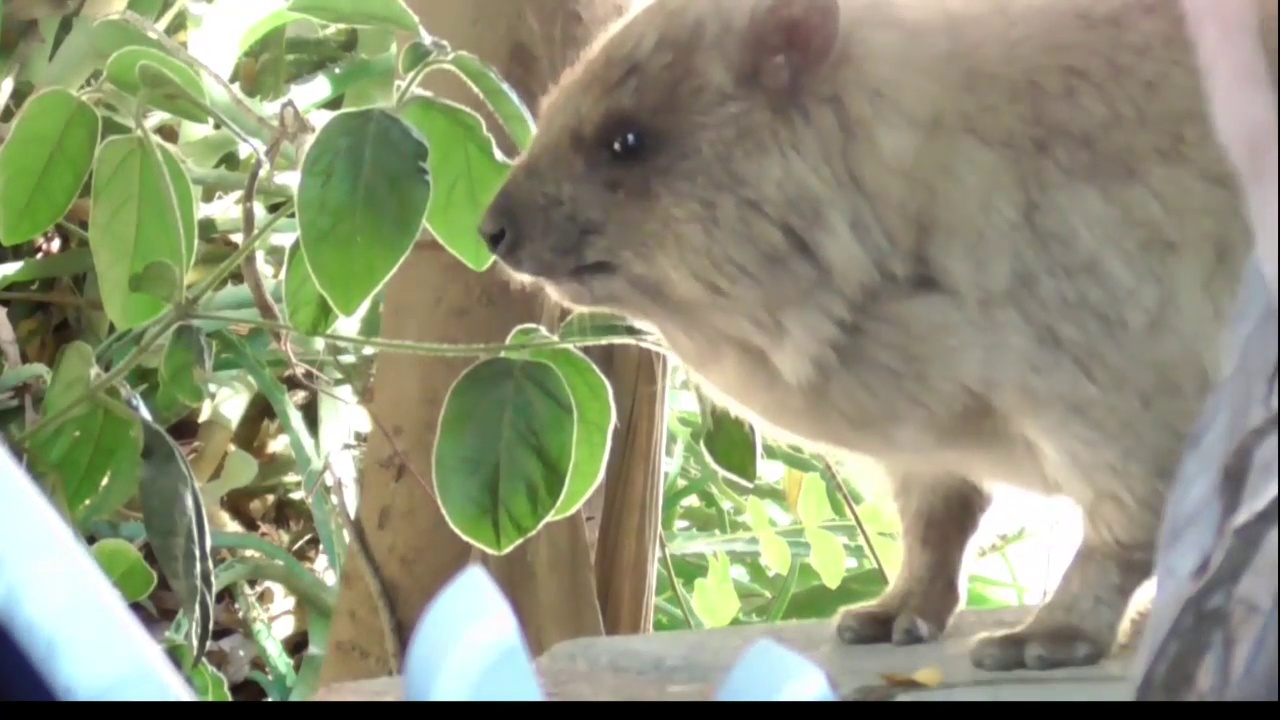Rock Hyrex: (475, 1, 1267, 675)
